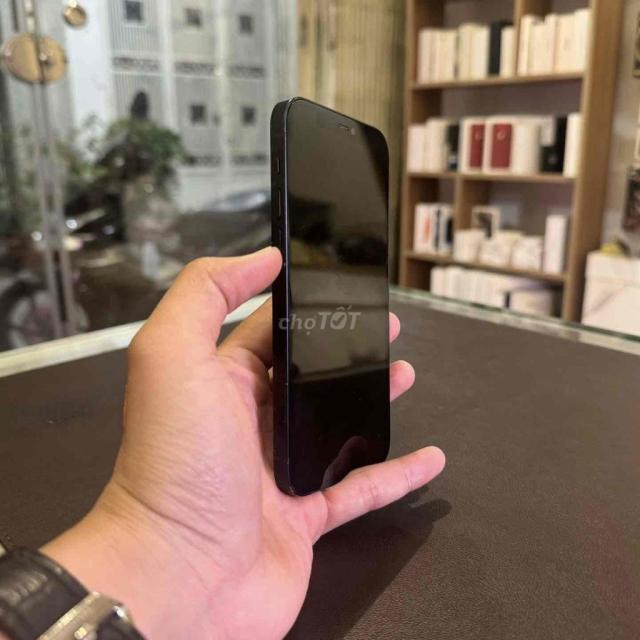gen_12_13: (260, 96, 395, 500)
